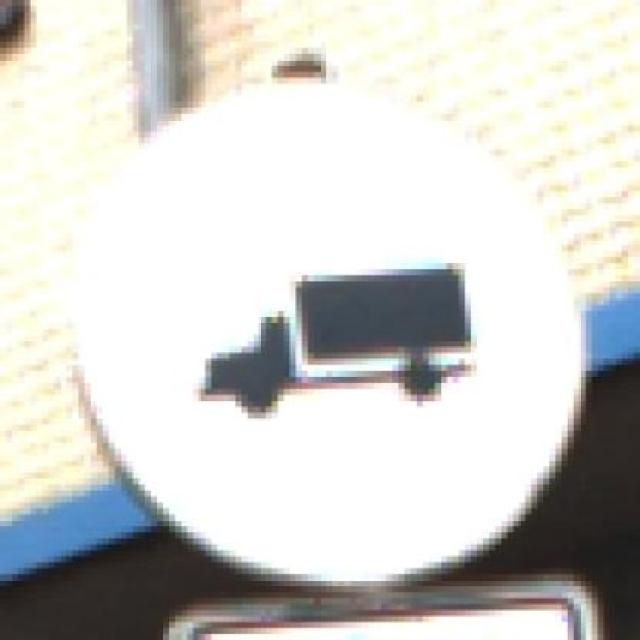Truck traffic is prohibited: (60, 59, 598, 610)
